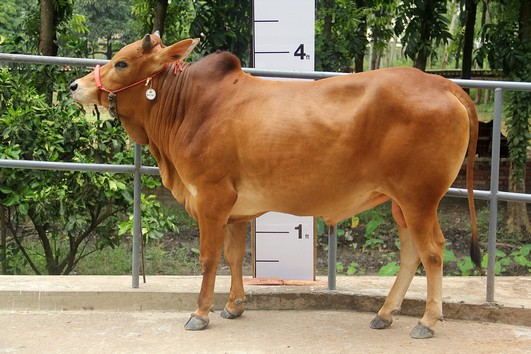cow: (60, 27, 485, 341)
